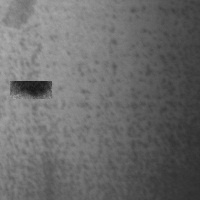patches: (10, 81, 52, 99)
pitted_surface: (3, 4, 197, 197)
